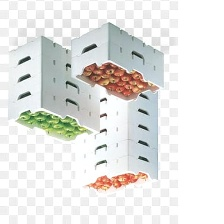plastic_box: (1, 30, 105, 148), (68, 78, 163, 202), (63, 18, 168, 105)
